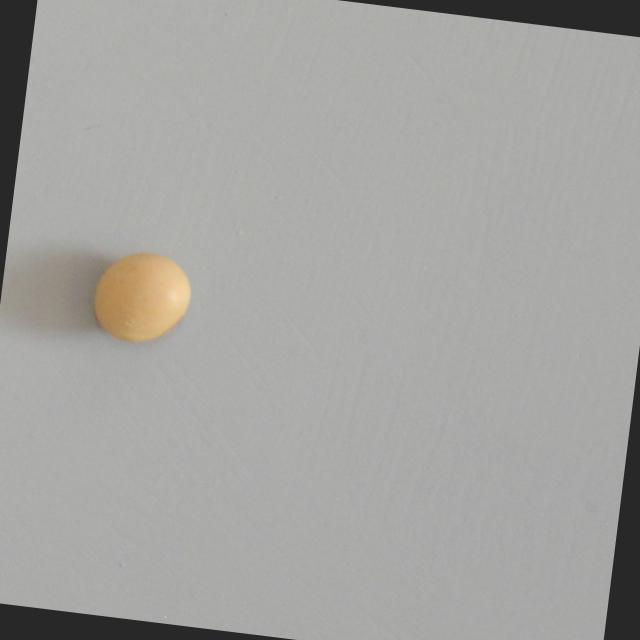cuerpos_extranos: (84, 238, 201, 355)
